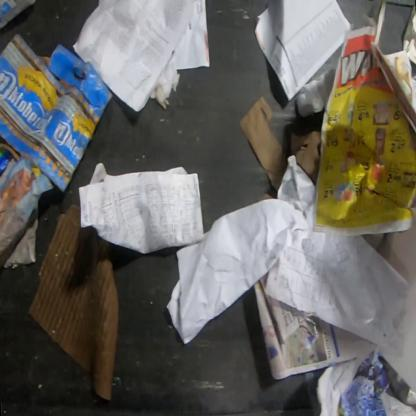cardboard: (26, 206, 120, 400), (0, 33, 113, 193), (240, 95, 321, 195), (0, 147, 13, 180)
